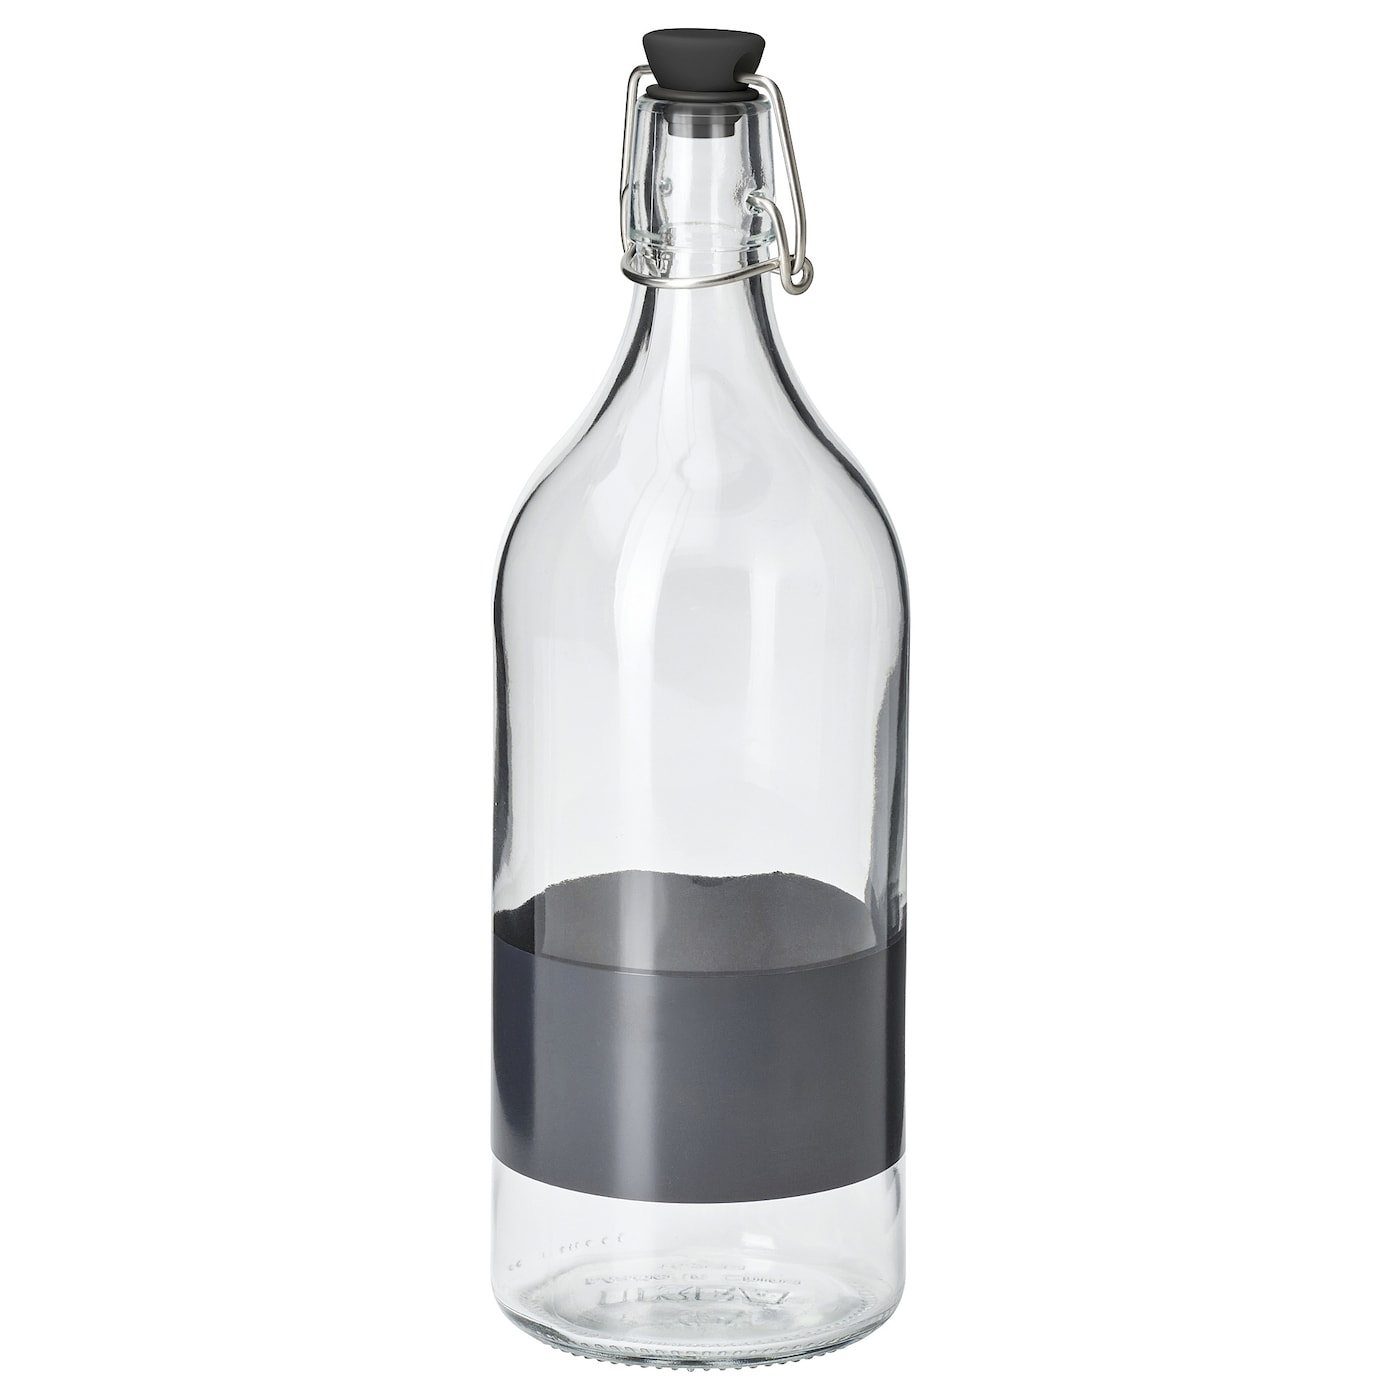glass_bottle: (415, 8, 1001, 1381)
